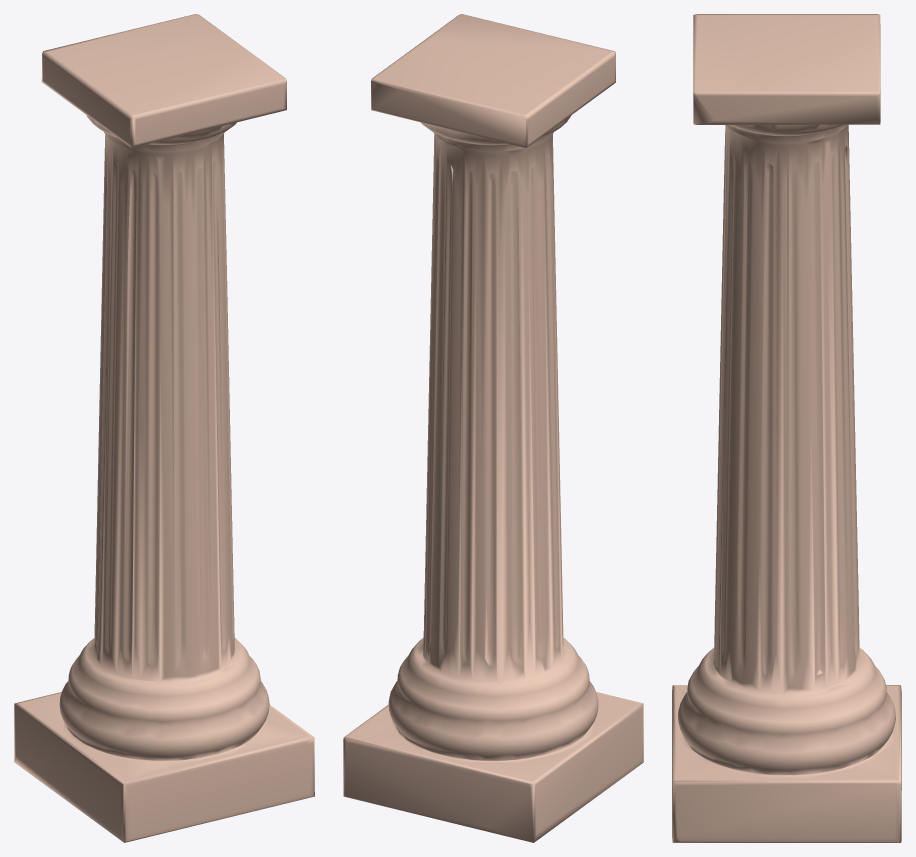
The model's file is lattice_column3.glb.
3 views of the same model, side by side, from view 1: azimuth 30°, elevation 25°; view 2: azimuth 150°, elevation 25°; view 3: azimuth 270°, elevation 25° (orthographic). The views are drawn at different scales.
Parts seen in each view (by area): view 1: columns_test1; view 2: columns_test1; view 3: columns_test1.
Part boxes in pixels (<box>): columns_test1: <box>14,14,314,842</box>; columns_test1: <box>343,14,643,842</box>; columns_test1: <box>672,14,901,842</box>.
Size of the model in its own units: 2 by 7.13 by 2.
